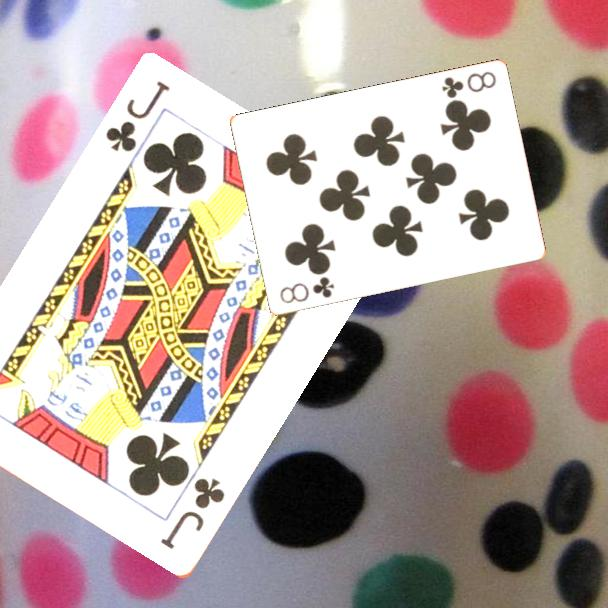c08: (276, 273, 337, 307), (438, 68, 499, 101)
c11: (157, 474, 228, 553), (102, 78, 173, 156)
